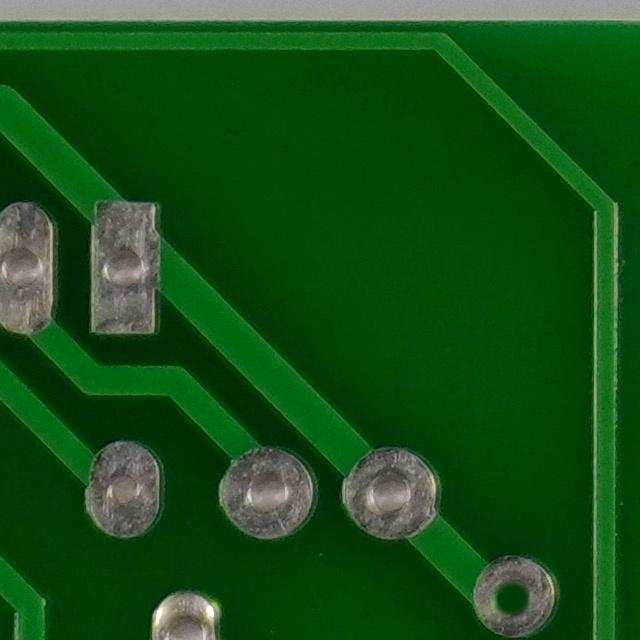missing_hole: (468, 552, 557, 637)
